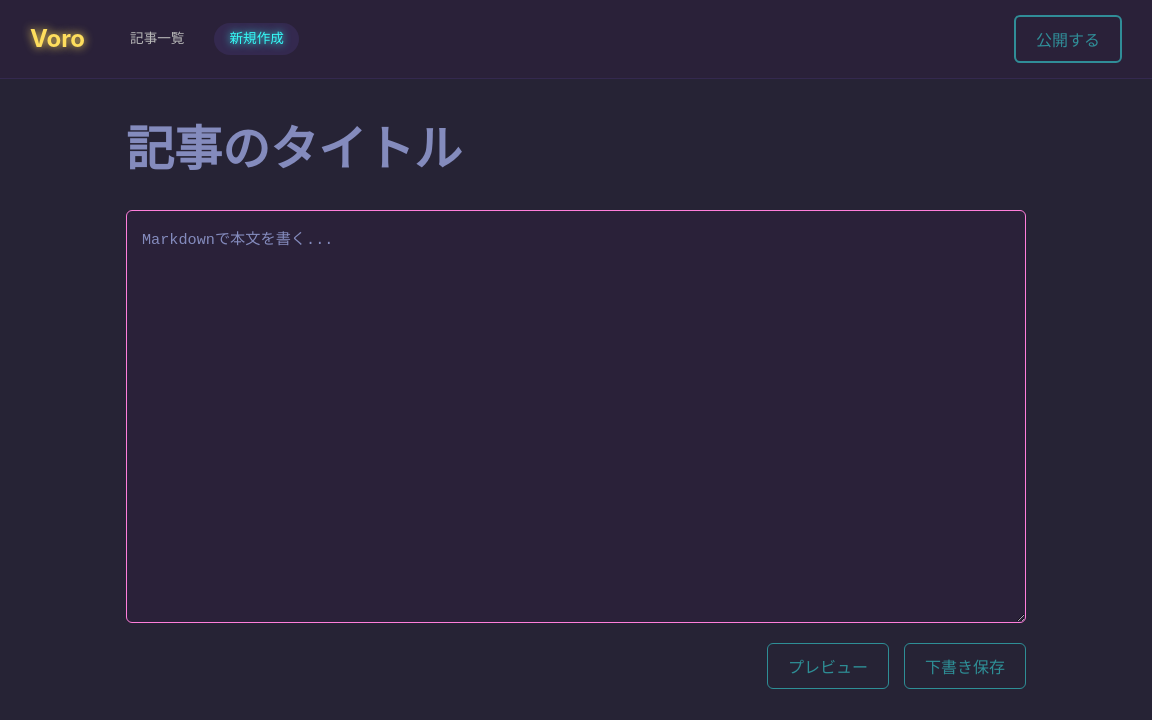
Test: PostEditorPage - Create Mode › creates a new post when form is submitted
Type "Test Post" into the field with placeholder "記事のタイトル" at (576, 150), box [126,109,1026,190]
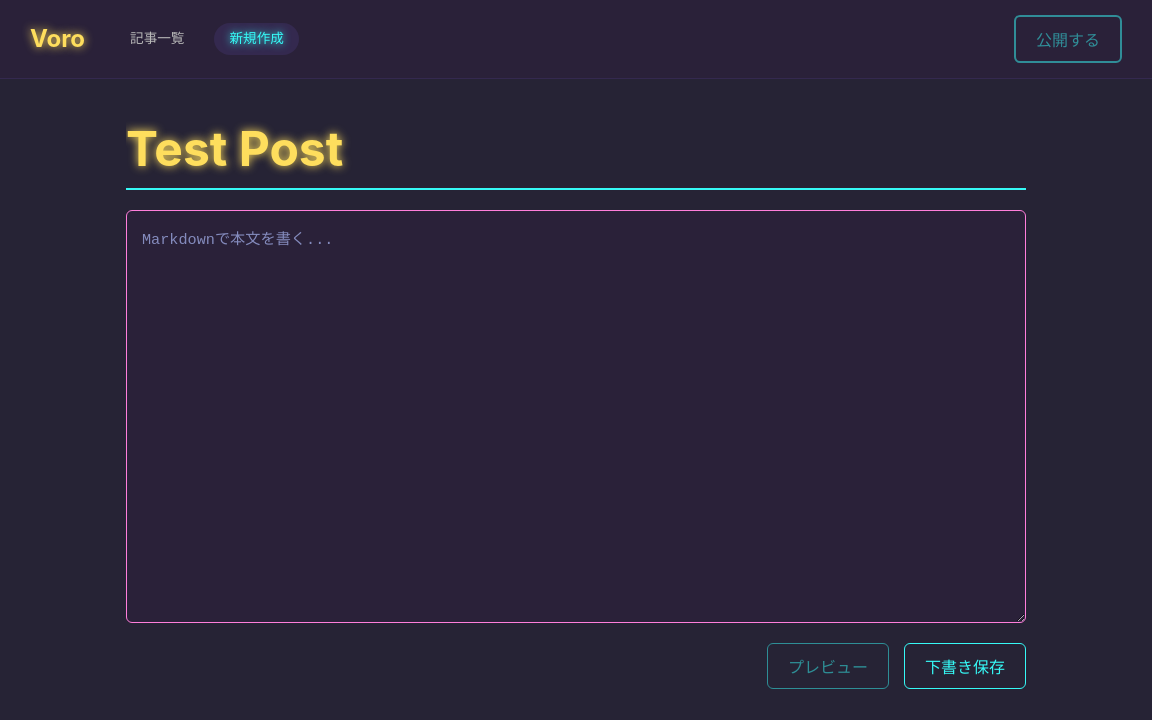
Type "Test content" into the text box with placeholder "Markdownで本文を書く..." at (576, 416), box [126,210,1026,623]
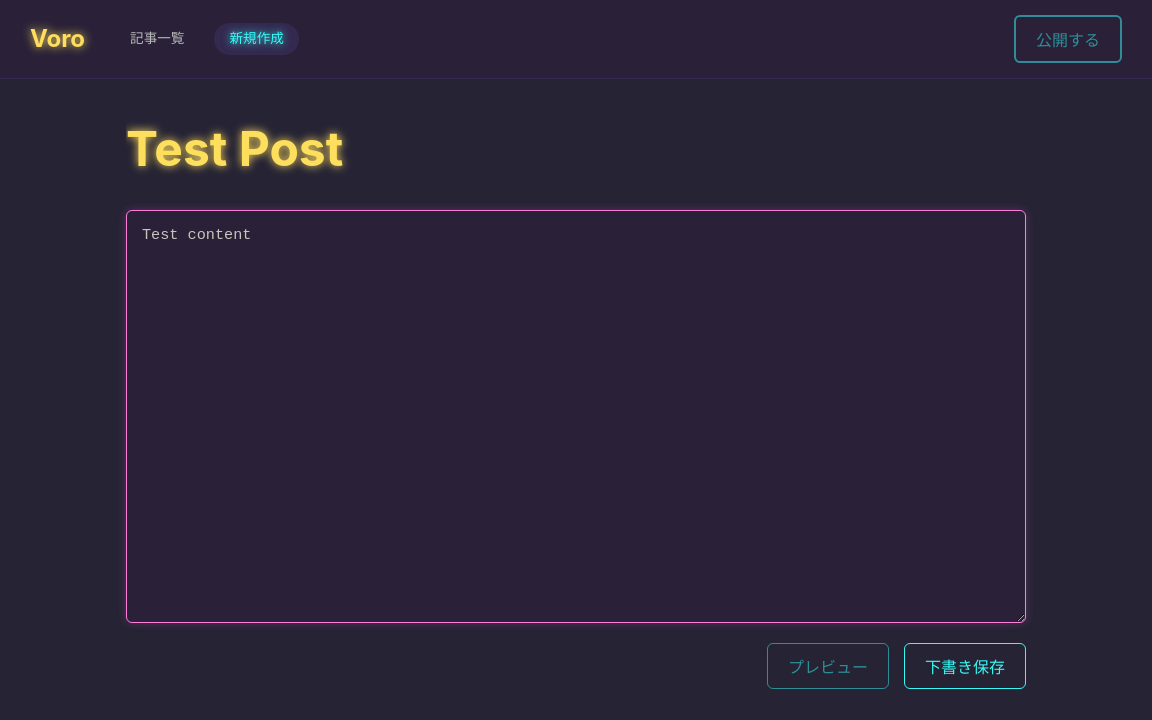
Note: 下書き保存ボタンをクリック
Click the button "下書き保存" at (965, 666), box [904,643,1026,689]
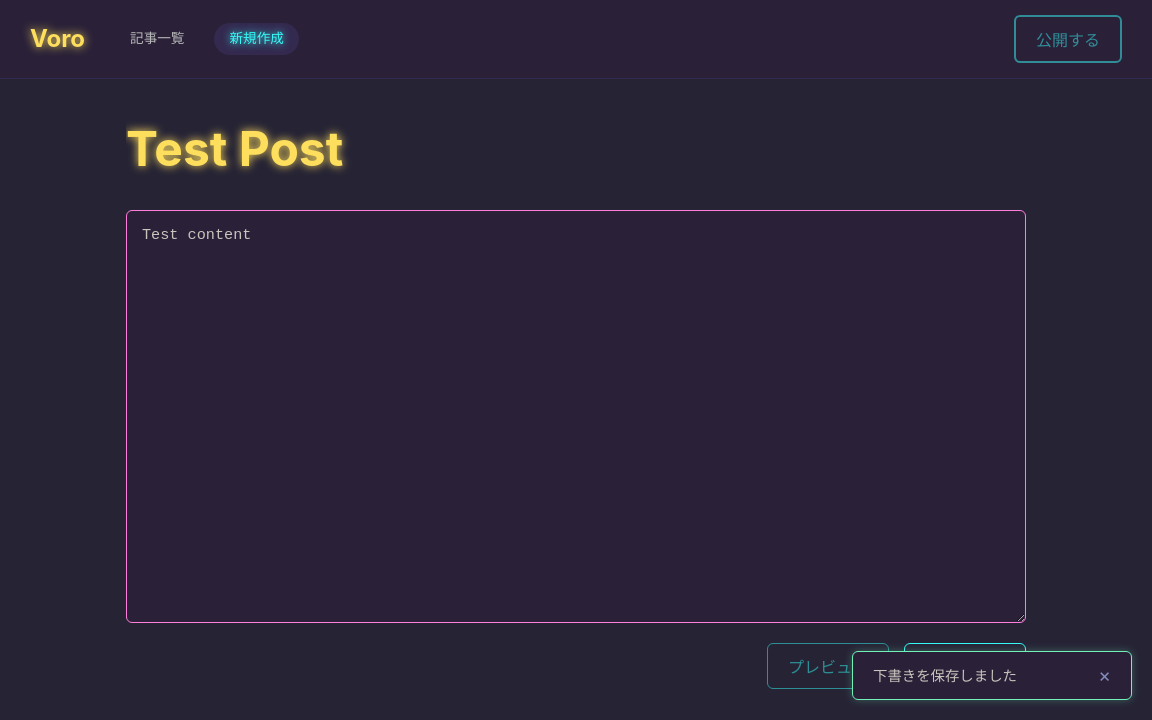
expect the text "下書きを保存しました" is shown: met, box [873,667,1017,684]
